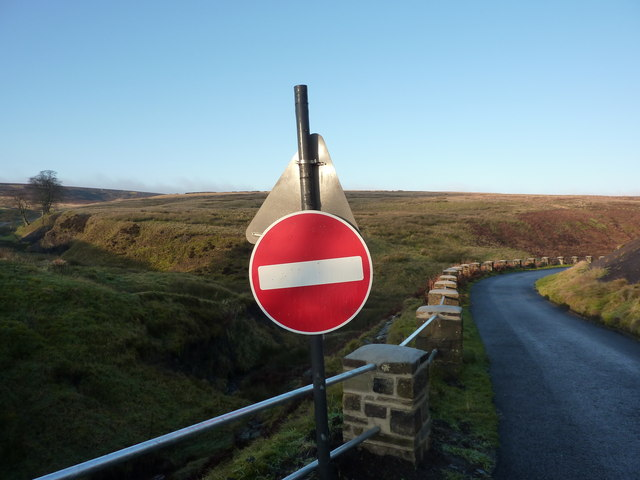No_entry: (248, 210, 374, 335)
